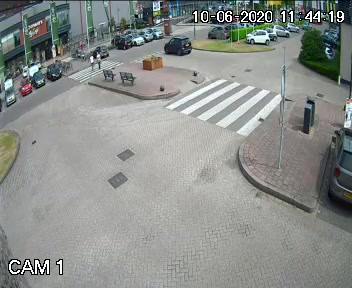car: (158, 30, 192, 59)
